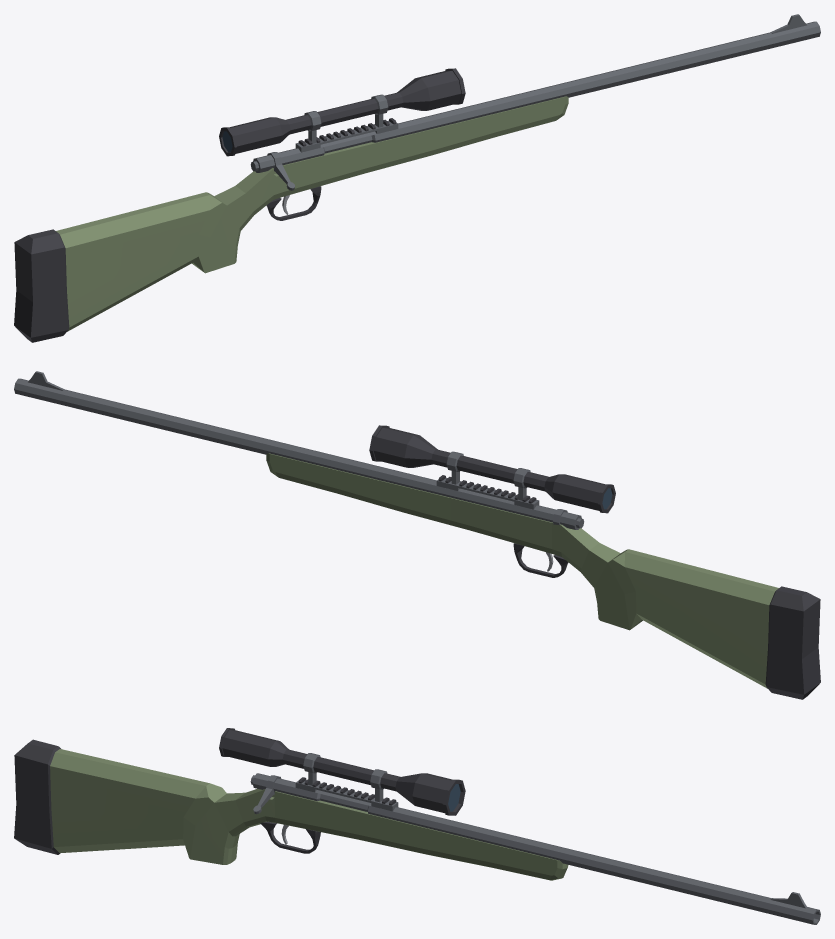
File: SniperRifle_1.glb
The picture shows the model from 3 angles, top to bottom: view 1: azimuth 30°, elevation 25°; view 2: azimuth 150°, elevation 25°; view 3: azimuth 330°, elevation 25°; orthographic projection.
Visible parts, largest first — view 1: SniperRifle_1; view 2: SniperRifle_1; view 3: SniperRifle_1.
Part boxes in pixels (x1,y1,x2,y2): SniperRifle_1: [14, 14, 820, 342]; SniperRifle_1: [14, 371, 820, 699]; SniperRifle_1: [14, 728, 820, 924].
Size of the model in its own units: 7.29 by 1.48 by 0.4593.
